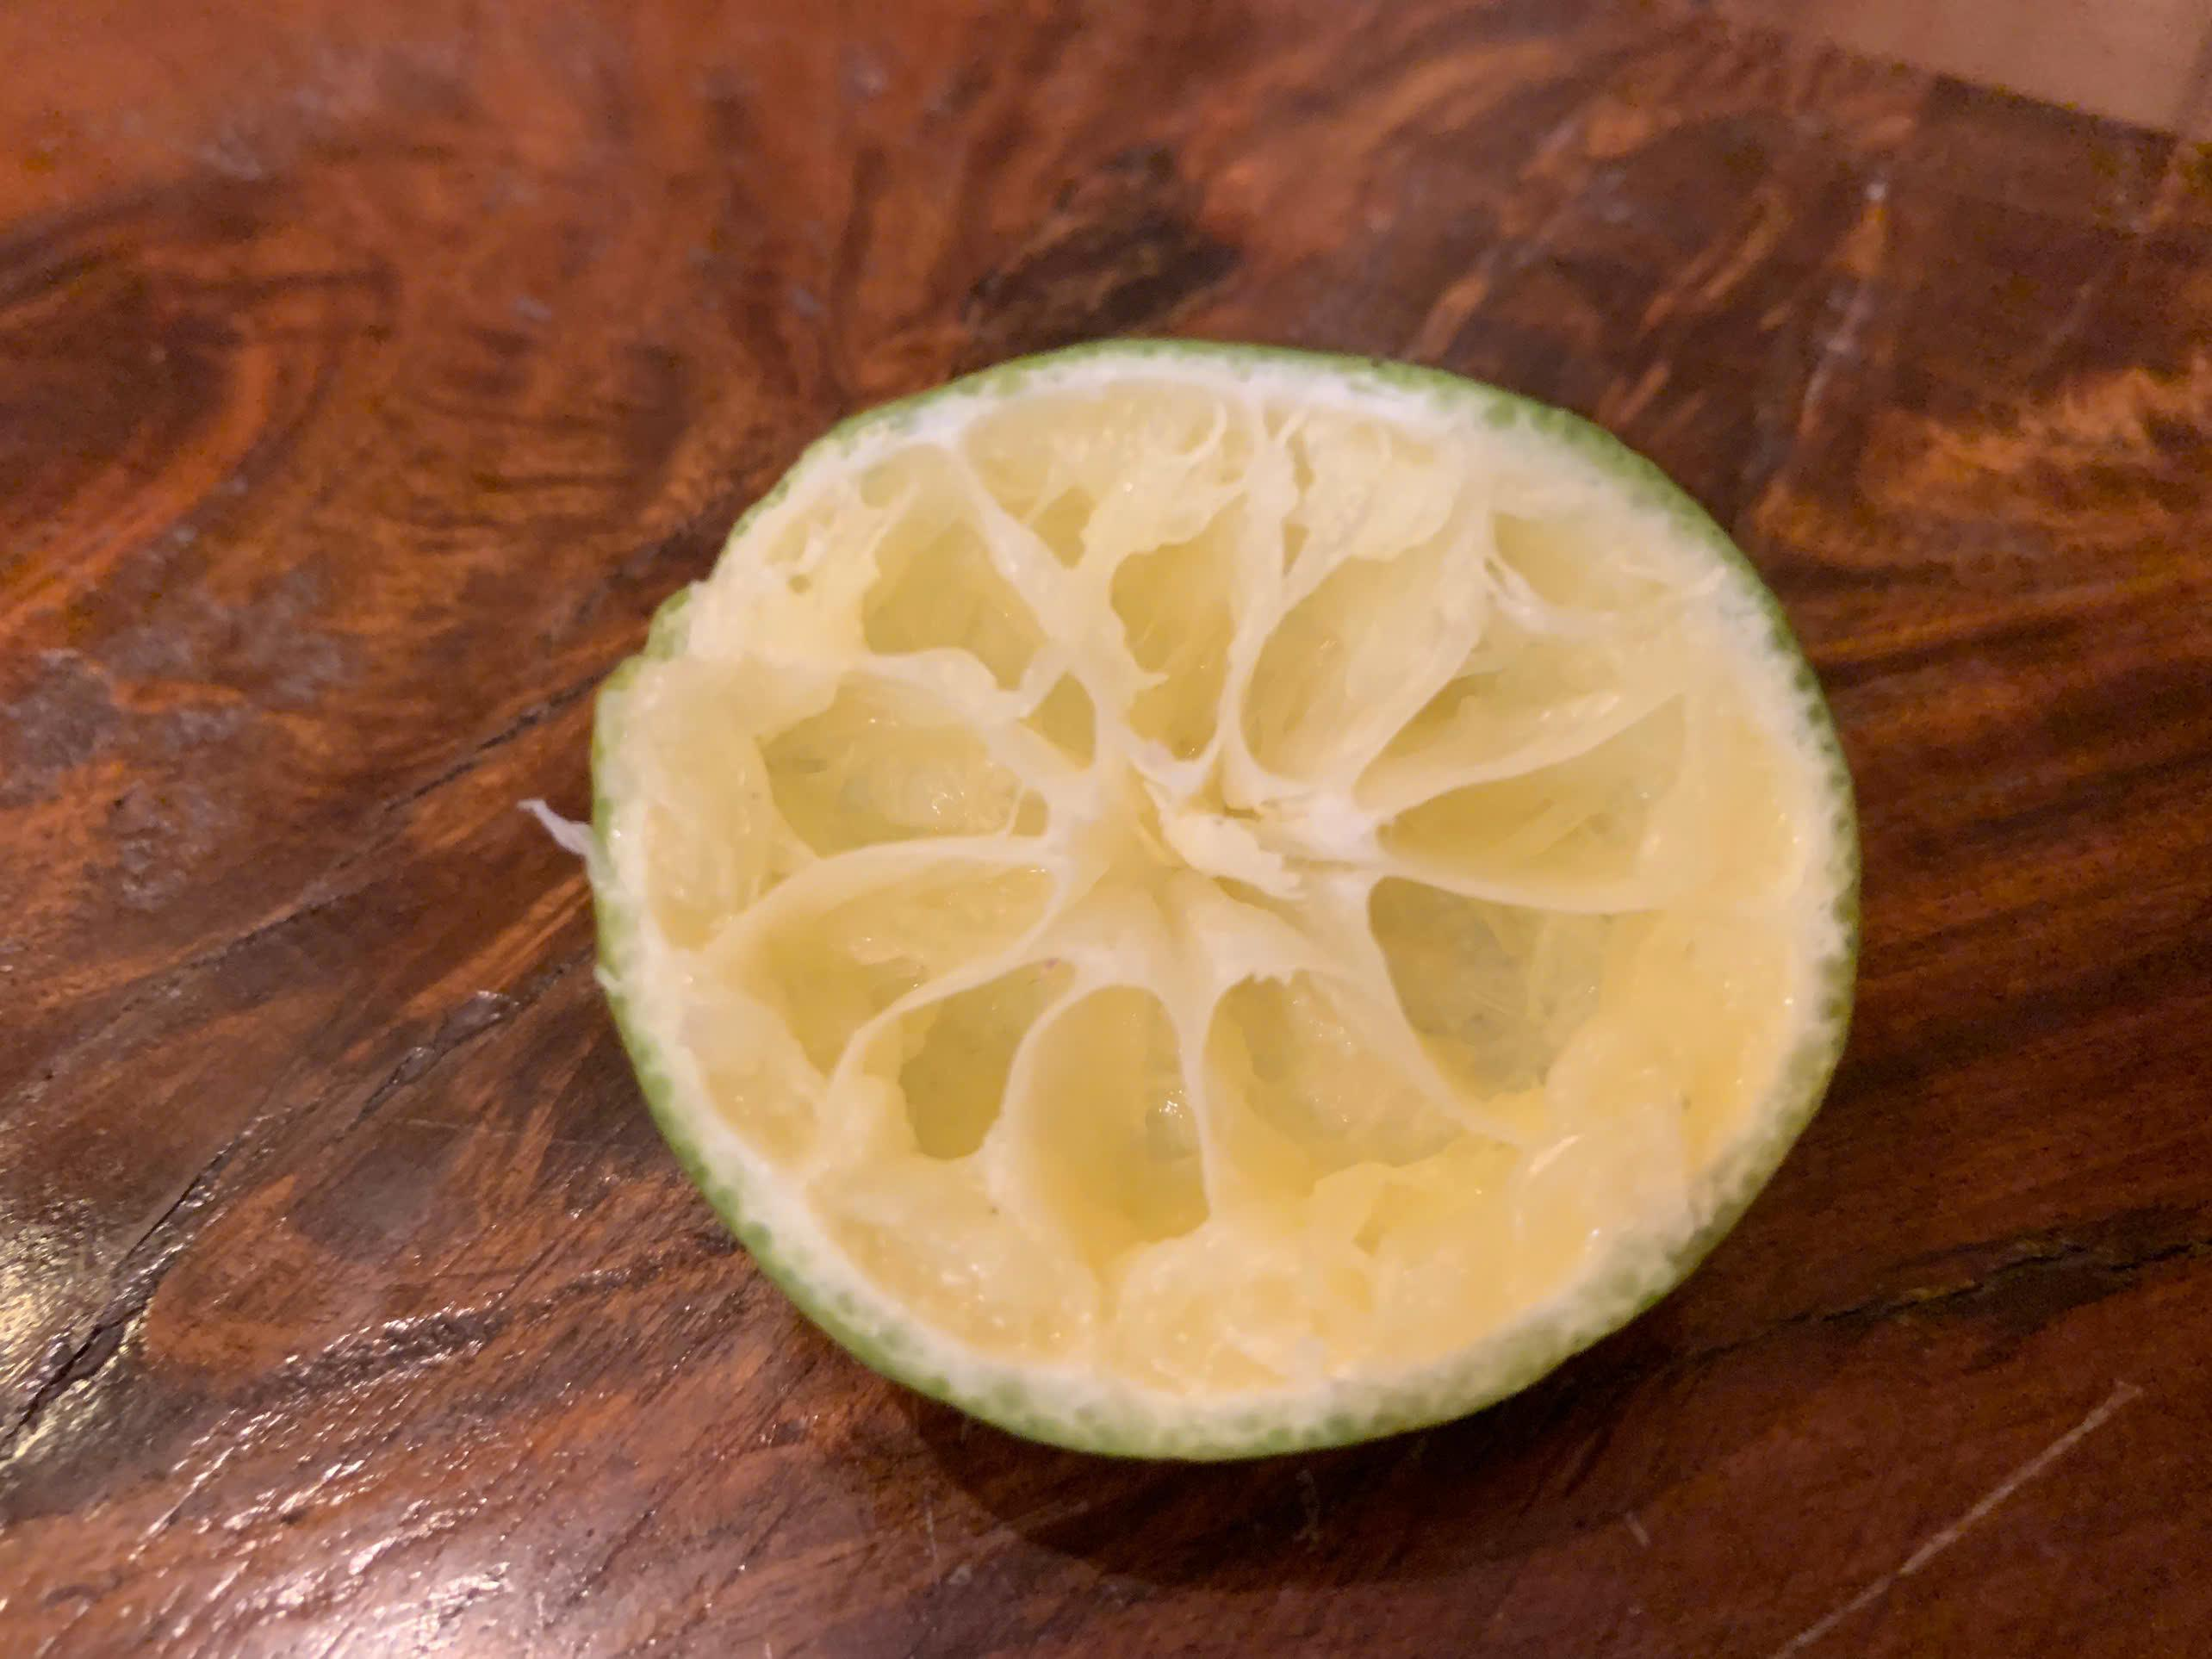Huu co: (585, 333, 1862, 1457)
